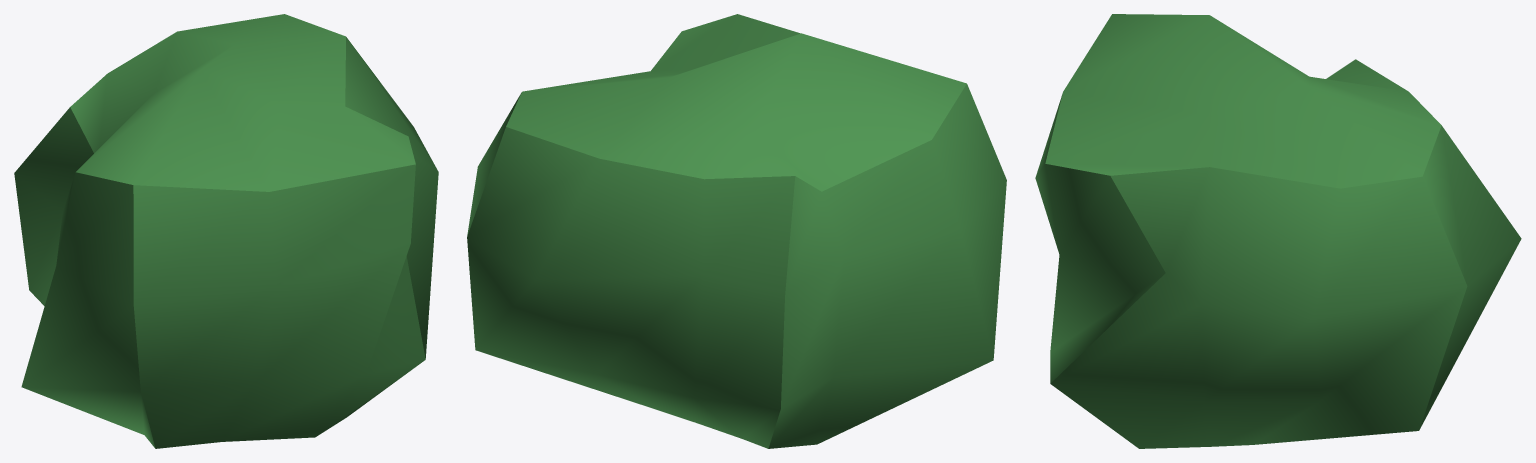
Rendered from zbun1.fbx.
3 renders of one model, left to right at view 1: azimuth 30°, elevation 25°; view 2: azimuth 150°, elevation 25°; view 3: azimuth 270°, elevation 25°, orthographic. The views are drawn at different scales.
Parts seen in each view (by area): view 1: pCube4; view 2: pCube4; view 3: pCube4.
Part boxes in pixels (<box>): pCube4: <box>14,14,438,448</box>; pCube4: <box>467,14,1006,448</box>; pCube4: <box>1035,14,1521,448</box>.
Size of the model in its own units: 0.0041 by 0.00311 by 0.00364.
